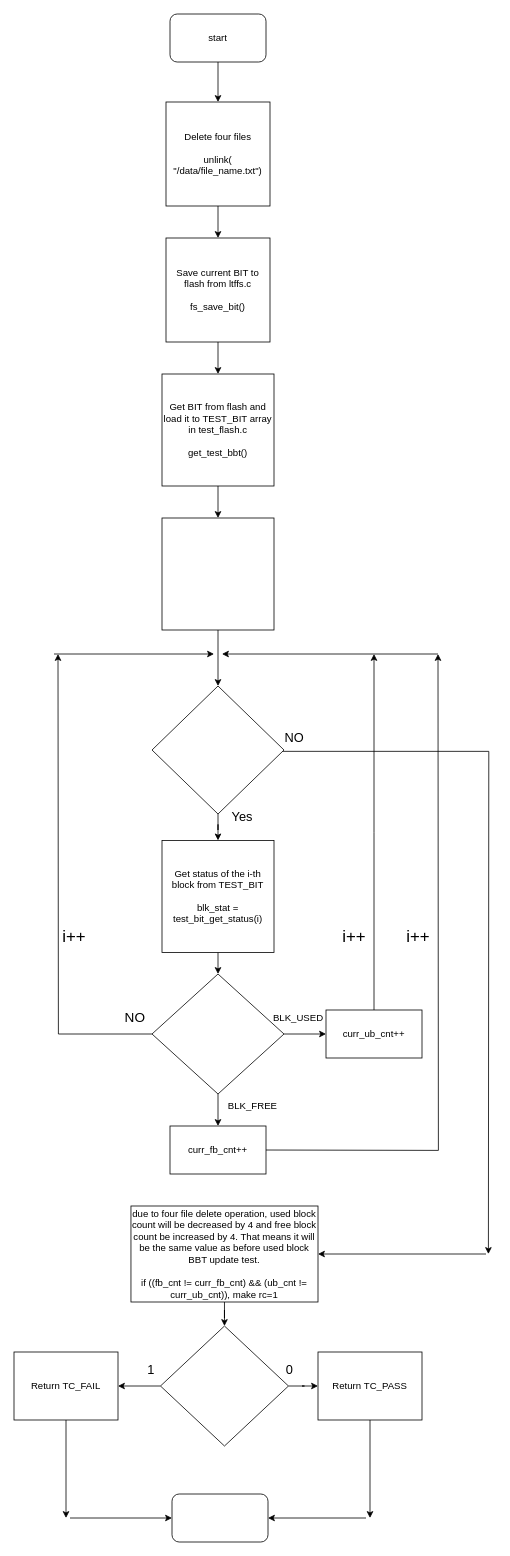
Image size: 510x1556. Some labels were removed from this diagram. The shapes that lost their labels are listed below. From the top down, each one's centre as x and y in pixels, then its label:
point 217,573: Set start block i = WL_START_BLOCK (block 8)
point 217,749: i < BLOCK_CNT (1024) ?
point 217,1033: blk_stat == BLK_FREE/BLK_USED ?
point 224,1385: rc ?
point 219,1517: Stop
